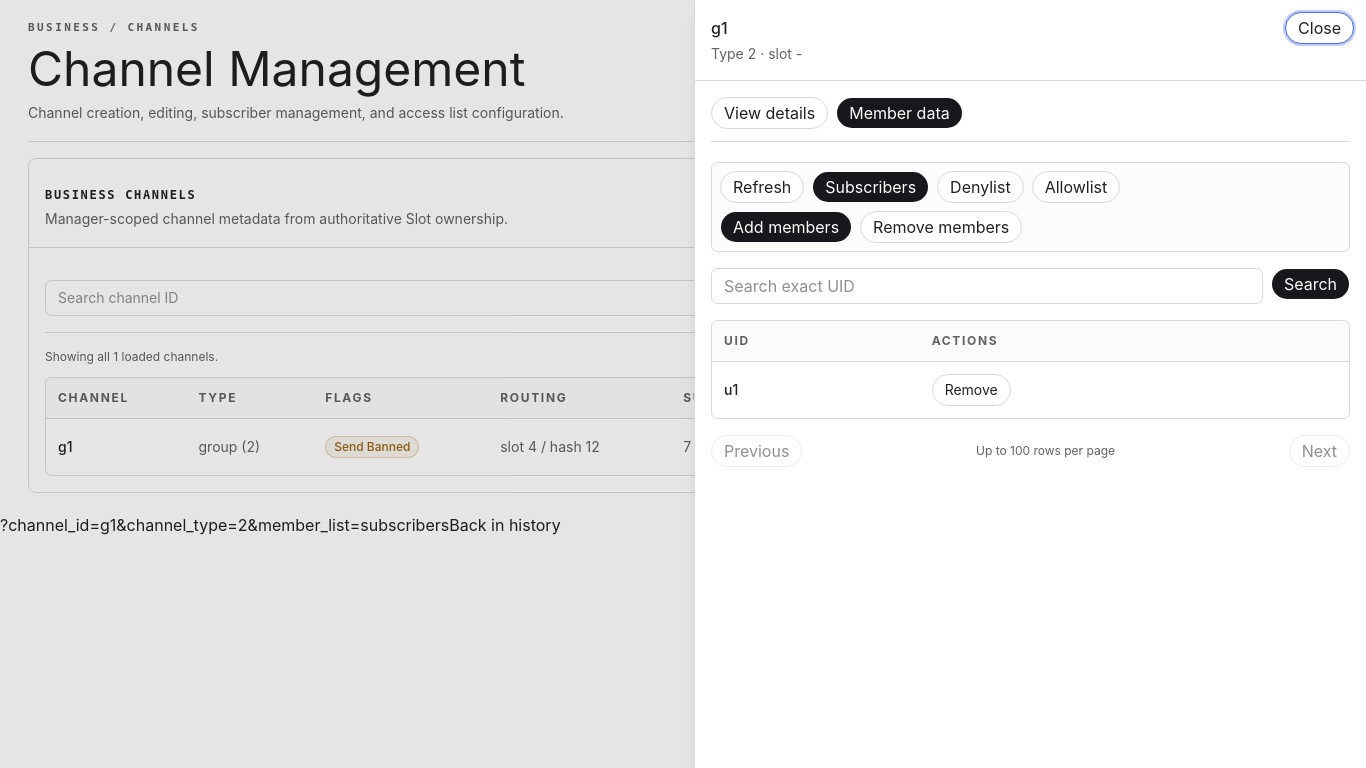
bulk removal requires a channel-list-count-preview confirmation
This screenshot has width=1366, height=768.
Expected: the link "u1" is shown, [724,381,738,398]
Click the button "Remove members". click: (941, 227)
box: [860,211,1022,243]
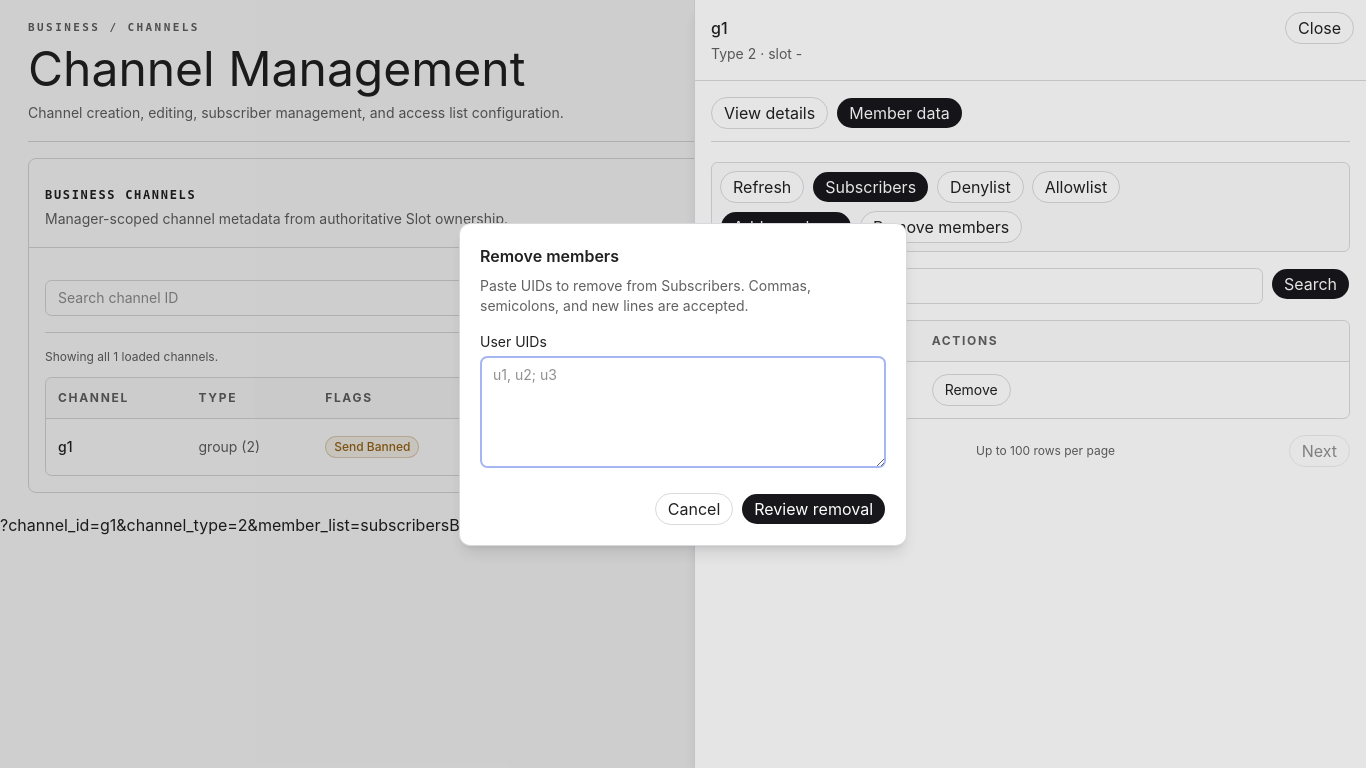
Type "u1;u2" into the text box named "UIDs to remove". click: (683, 412)
box: [480,356,886,468]
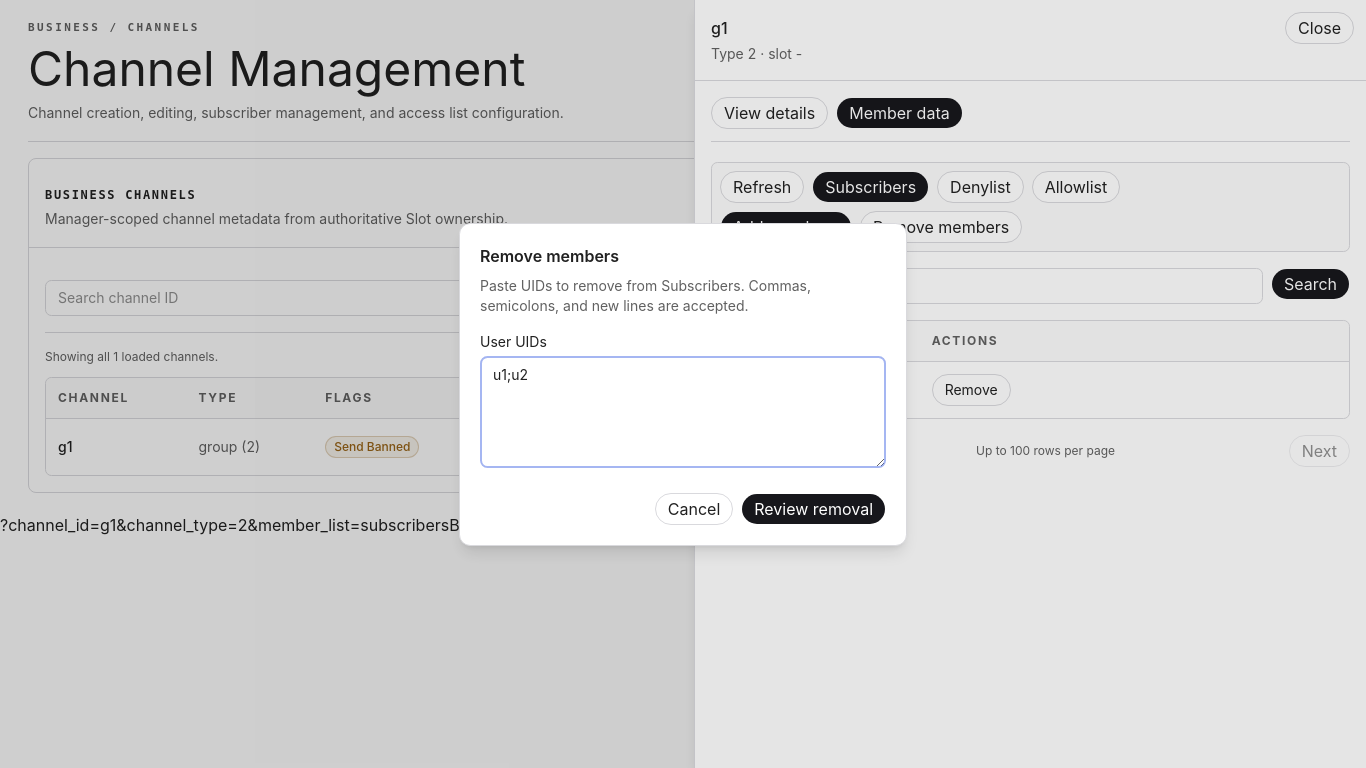
Click the button "Review removal". click: (814, 508)
box: [741,492,886,524]
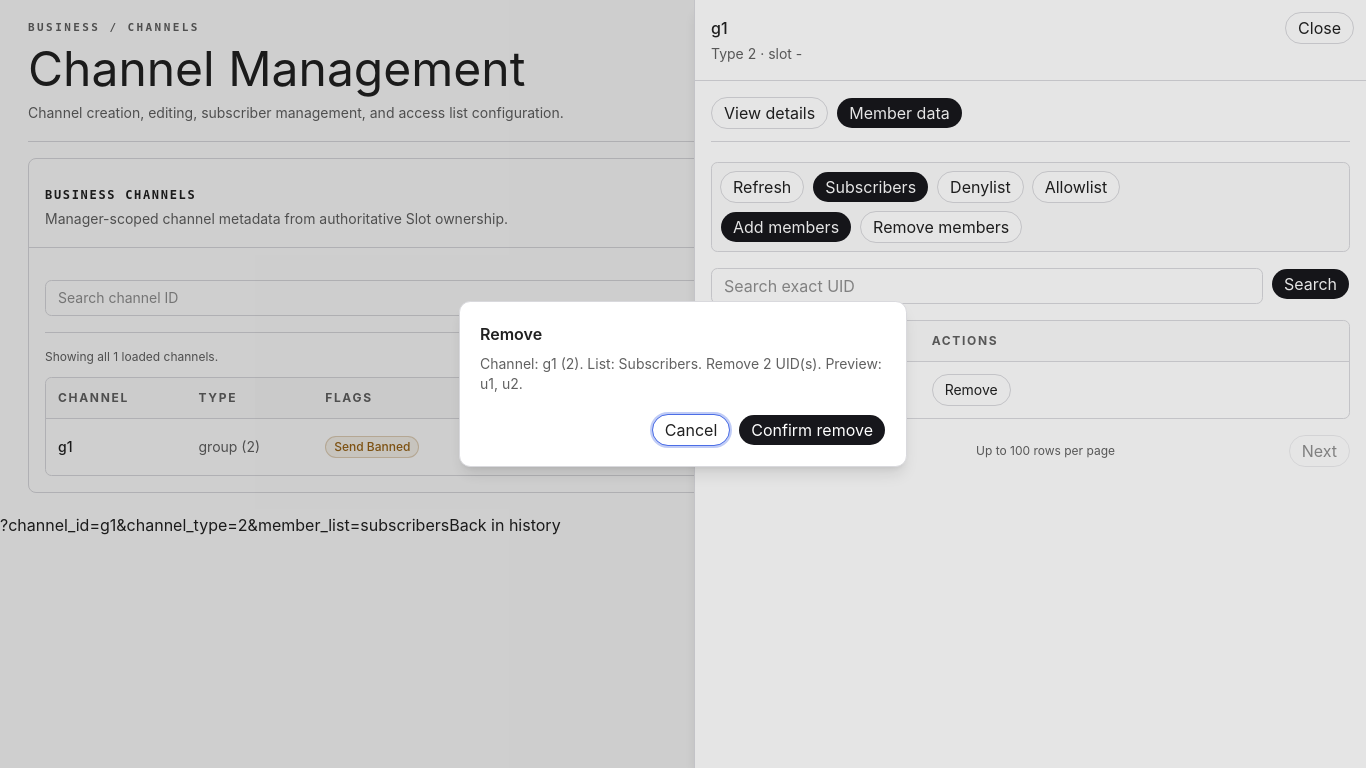
Click the button "Confirm remove". click: (812, 430)
box: [738,414,886,446]
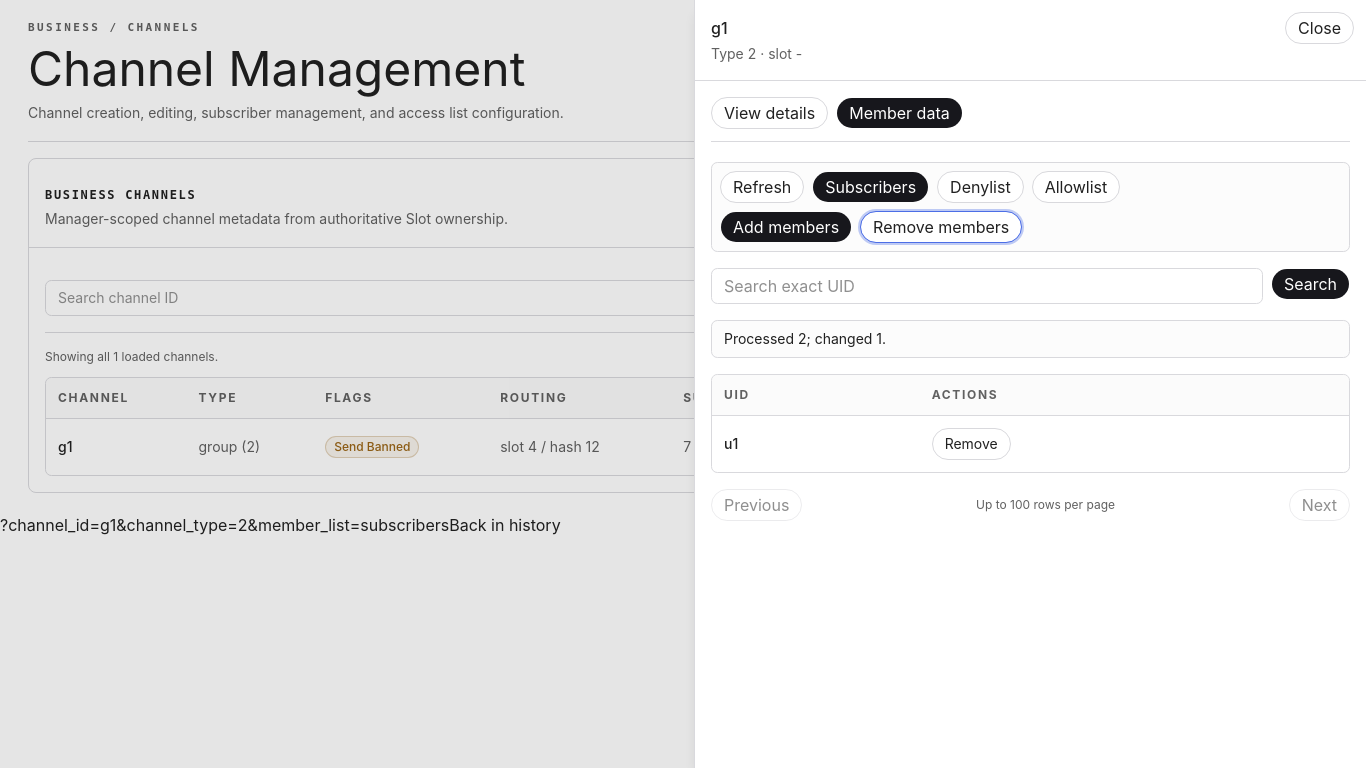
Expected: the text "Processed 2; changed 1." is shown, [711,320,1350,358]
